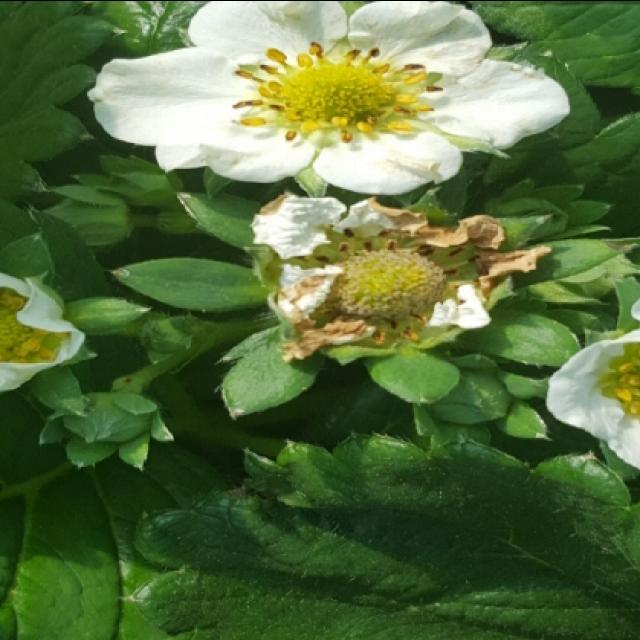Blossom Blight: (227, 35, 447, 148), (293, 221, 484, 344)
